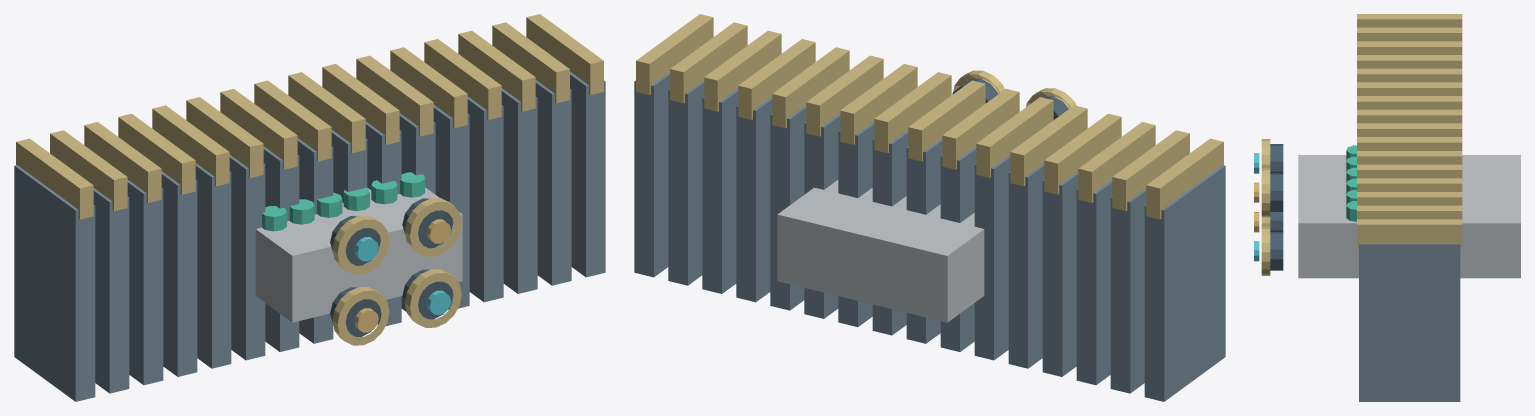
File: 37_L83_BatteryCellVoltageTapArray.glb
3 views of the same model, side by side, from view 1: azimuth 30°, elevation 25°; view 2: azimuth 150°, elevation 25°; view 3: azimuth 270°, elevation 25° (orthographic). The views are drawn at different scales.
Visible parts, largest first — view 1: BatteryCellVoltageTapArray_Node_0000, BatteryCellVoltageTapArray_Node_0032, BatteryCellVoltageTapArray_Node_0024, BatteryCellVoltageTapArray_Node_0026, BatteryCellVoltageTapArray_Node_0004, BatteryCellVoltageTapArray_Node_0006, BatteryCellVoltageTapArray_Node_0008, BatteryCellVoltageTapArray_Node_0002, BatteryCellVoltageTapArray_Node_0028, BatteryCellVoltageTapArray_Node_0030, BatteryCellVoltageTapArray_Node_0010, BatteryCellVoltageTapArray_Node_0022 (+35 smaller); view 2: BatteryCellVoltageTapArray_Node_0032, BatteryCellVoltageTapArray_Node_0000, BatteryCellVoltageTapArray_Node_0024, BatteryCellVoltageTapArray_Node_0026, BatteryCellVoltageTapArray_Node_0004, BatteryCellVoltageTapArray_Node_0006, BatteryCellVoltageTapArray_Node_0008, BatteryCellVoltageTapArray_Node_0002, BatteryCellVoltageTapArray_Node_0028, BatteryCellVoltageTapArray_Node_0030, BatteryCellVoltageTapArray_Node_0010, BatteryCellVoltageTapArray_Node_0022 (+21 smaller); view 3: BatteryCellVoltageTapArray_Node_0030, BatteryCellVoltageTapArray_Node_0032, BatteryCellVoltageTapArray_Node_0031, BatteryCellVoltageTapArray_Node_0003, BatteryCellVoltageTapArray_Node_0009, BatteryCellVoltageTapArray_Node_0015, BatteryCellVoltageTapArray_Node_0023, BatteryCellVoltageTapArray_Node_0029, BatteryCellVoltageTapArray_Node_0001, BatteryCellVoltageTapArray_Node_0005, BatteryCellVoltageTapArray_Node_0007, BatteryCellVoltageTapArray_Node_0011 (+13 smaller).
Part boxes in pixels (box(x1,y1,x2,y2)): BatteryCellVoltageTapArray_Node_0000: box(14, 165, 95, 401); BatteryCellVoltageTapArray_Node_0032: box(255, 187, 462, 322); BatteryCellVoltageTapArray_Node_0024: box(467, 96, 503, 302); BatteryCellVoltageTapArray_Node_0026: box(501, 88, 537, 293); BatteryCellVoltageTapArray_Node_0004: box(127, 179, 163, 385); BatteryCellVoltageTapArray_Node_0006: box(161, 171, 197, 376); BatteryCellVoltageTapArray_Node_0008: box(195, 163, 231, 368); BatteryCellVoltageTapArray_Node_0002: box(93, 188, 129, 393); BatteryCellVoltageTapArray_Node_0028: box(535, 80, 571, 285); BatteryCellVoltageTapArray_Node_0030: box(570, 71, 605, 277); BatteryCellVoltageTapArray_Node_0010: box(229, 154, 265, 360); BatteryCellVoltageTapArray_Node_0022: box(433, 105, 469, 309); BatteryCellVoltageTapArray_Node_0032: box(777, 180, 984, 322); BatteryCellVoltageTapArray_Node_0000: box(1144, 165, 1225, 401); BatteryCellVoltageTapArray_Node_0024: box(736, 96, 772, 302); BatteryCellVoltageTapArray_Node_0026: box(702, 88, 738, 293); BatteryCellVoltageTapArray_Node_0004: box(1076, 179, 1112, 385); BatteryCellVoltageTapArray_Node_0006: box(1042, 171, 1078, 376); BatteryCellVoltageTapArray_Node_0008: box(1008, 163, 1044, 368); BatteryCellVoltageTapArray_Node_0002: box(1110, 188, 1146, 393); BatteryCellVoltageTapArray_Node_0028: box(668, 80, 704, 285); BatteryCellVoltageTapArray_Node_0030: box(634, 71, 669, 277); BatteryCellVoltageTapArray_Node_0010: box(974, 154, 1010, 360); BatteryCellVoltageTapArray_Node_0022: box(770, 105, 806, 310); BatteryCellVoltageTapArray_Node_0030: box(1359, 243, 1460, 401); BatteryCellVoltageTapArray_Node_0032: box(1298, 155, 1520, 278); BatteryCellVoltageTapArray_Node_0031: box(1357, 219, 1462, 250); BatteryCellVoltageTapArray_Node_0003: box(1357, 27, 1462, 41); BatteryCellVoltageTapArray_Node_0009: box(1357, 68, 1462, 82); BatteryCellVoltageTapArray_Node_0015: box(1357, 109, 1462, 123); BatteryCellVoltageTapArray_Node_0023: box(1357, 164, 1462, 178); BatteryCellVoltageTapArray_Node_0029: box(1357, 205, 1462, 219); BatteryCellVoltageTapArray_Node_0001: box(1357, 14, 1462, 27); BatteryCellVoltageTapArray_Node_0005: box(1357, 41, 1462, 54); BatteryCellVoltageTapArray_Node_0007: box(1357, 55, 1462, 68); BatteryCellVoltageTapArray_Node_0011: box(1357, 82, 1462, 95).
Size of the model in its own units: 1.25 by 0.48 by 0.6595.
